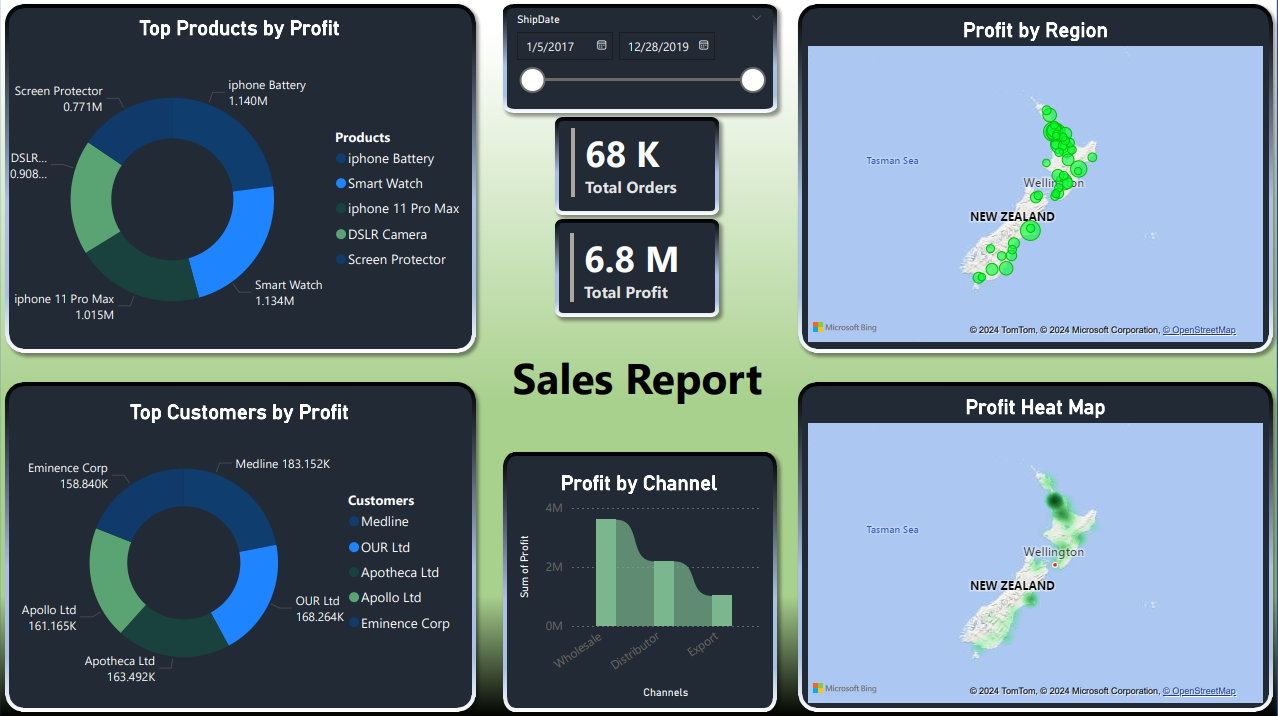

The page's visual inventory and layout, read from the dashboard file:
{"tool":"powerbi","page":{"name":"Page 1","canvas":[1280,720],"ordinal":0},"visuals":[{"type":"map","title":"Profit Heat Map","fields":{"Y":["Avg(samplesales orders1.Latitude)"],"X":["Avg(samplesales orders1.Longitude)"],"Category":["samplesales orders1.City"],"Size":["Sum(samplesales orders1.Profit)"]},"box":[799,385.1,474.9,327.7],"z":0},{"type":"donutChart","title":"Top Products by Profit","fields":{"Category":["samplesales products.productName"],"Y":["Sum(samplesales orders.Profit)"]},"box":[6.3,16.2,468.6,343.8],"z":1000},{"type":"ribbonChart","title":"Profit by Channel","fields":{"Category":["samplesales orders.Channels"],"Y":["Sum(samplesales orders.Profit)"]},"box":[505.4,456.1,269.3,256.8],"z":2000},{"type":"map","title":"Profit by Region","fields":{"Y":["Avg(samplesales orders1.Latitude)"],"X":["Avg(samplesales orders1.Longitude)"],"Category":["samplesales orders1.City"],"Size":["Sum(samplesales orders1.Profit)"]},"box":[799,8.1,474.9,343.8],"z":3000},{"type":"donutChart","title":"Top Customers by Profit","fields":{"Category":["samplesales customers.customerName"],"Y":["Sum(samplesales orders.Profit)"]},"box":[6.3,385.1,468.6,327.7],"z":4000},{"type":"multiRowCard","fields":{"Values":["Sum(samplesales orders.Profit)"]},"box":[566.5,228,142.7,87.1],"z":5000},{"type":"multiRowCard","title":"Total Orders","fields":{"Values":["Sum(samplesales orders.OrderQuantity)"]},"box":[567.4,123,142.7,83.5],"z":6000},{"type":"slicer","fields":{"Values":["samplesales orders.ShipDate"]},"box":[505.5,8.2,269.1,102.7],"z":7000},{"type":"textbox","box":[492.9,325.9,290.9,86.2],"z":8000}]}

Visuals, with their boxes in screenshot pixels (x1, y1, x2, y2), scaled from the page's 1280x720 canvas onto the 1278x716 screenshot:
"Profit Heat Map" map: rect(798, 383, 1272, 709)
"Top Products by Profit" donutChart: rect(6, 16, 474, 358)
"Profit by Channel" ribbonChart: rect(505, 454, 773, 709)
"Profit by Region" map: rect(798, 8, 1272, 350)
"Top Customers by Profit" donutChart: rect(6, 383, 474, 709)
multiRowCard - Sum(samplesales orders.Profit): rect(566, 227, 708, 313)
"Total Orders" multiRowCard: rect(567, 122, 709, 205)
slicer - samplesales orders.ShipDate: rect(505, 8, 773, 110)
textbox: rect(492, 324, 783, 410)
